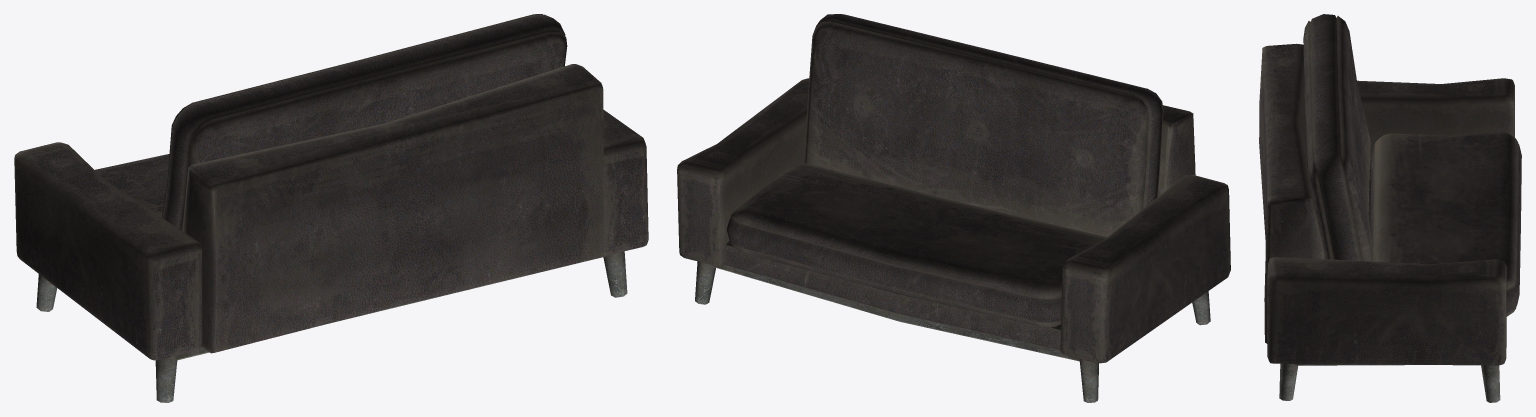
The model's file is OfficeCouch01Dynamic.obj.
The picture shows the model from 3 angles, left to right: view 1: azimuth 30°, elevation 25°; view 2: azimuth 150°, elevation 25°; view 3: azimuth 270°, elevation 25°; orthographic projection. The views are drawn at different scales.
Visible parts, largest first — view 1: Couch_19, BackCushion_19, BottomCushion_19; view 2: BackCushion_19, Couch_19, BottomCushion_19; view 3: Couch_19, BottomCushion_19, BackCushion_19.
Boxes of the visible parts, x1=… form: Couch_19: x1=14, y1=64, x2=648, y2=402; BackCushion_19: x1=161, y1=14, x2=567, y2=230; BottomCushion_19: x1=95, y1=154, x2=169, y2=216; BackCushion_19: x1=804, y1=14, x2=1163, y2=237; Couch_19: x1=677, y1=78, x2=1230, y2=402; BottomCushion_19: x1=726, y1=163, x2=1107, y2=327; Couch_19: x1=1259, y1=43, x2=1514, y2=402; BottomCushion_19: x1=1370, y1=132, x2=1521, y2=316; BackCushion_19: x1=1303, y1=14, x2=1373, y2=261.
Size of the model in its own units: 135 by 69.97 by 73.84.
3 materials, 3 textured.
